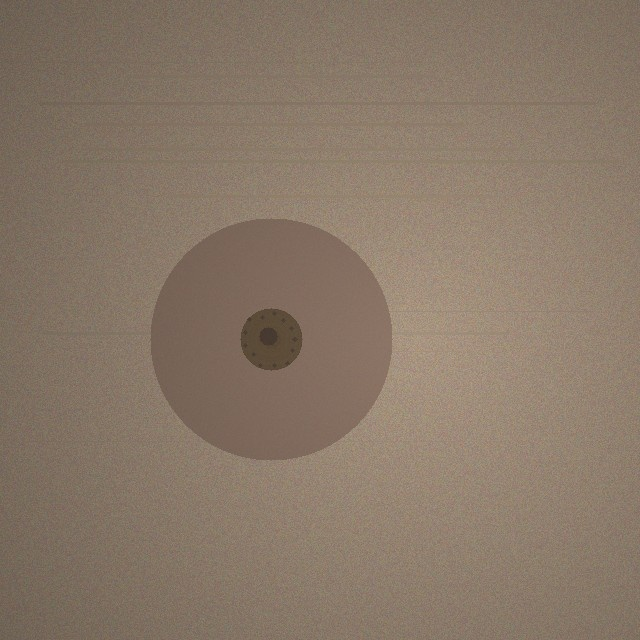cold_weld: (150, 218, 392, 460)
